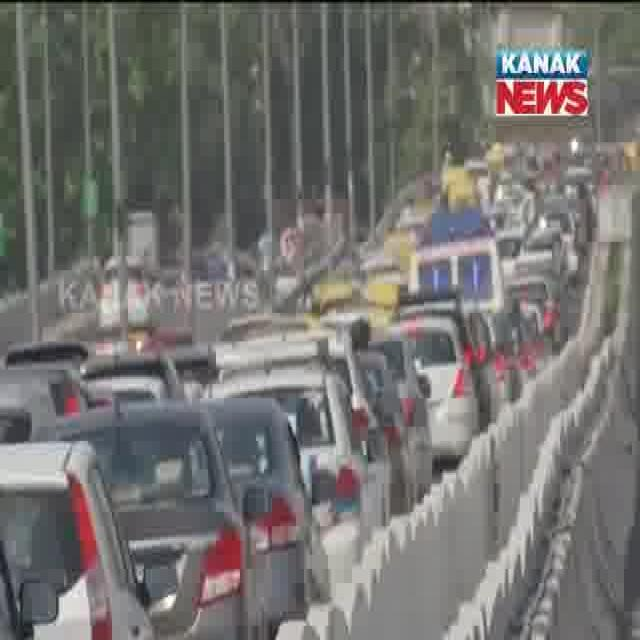ambulance: (403, 218, 507, 316)
